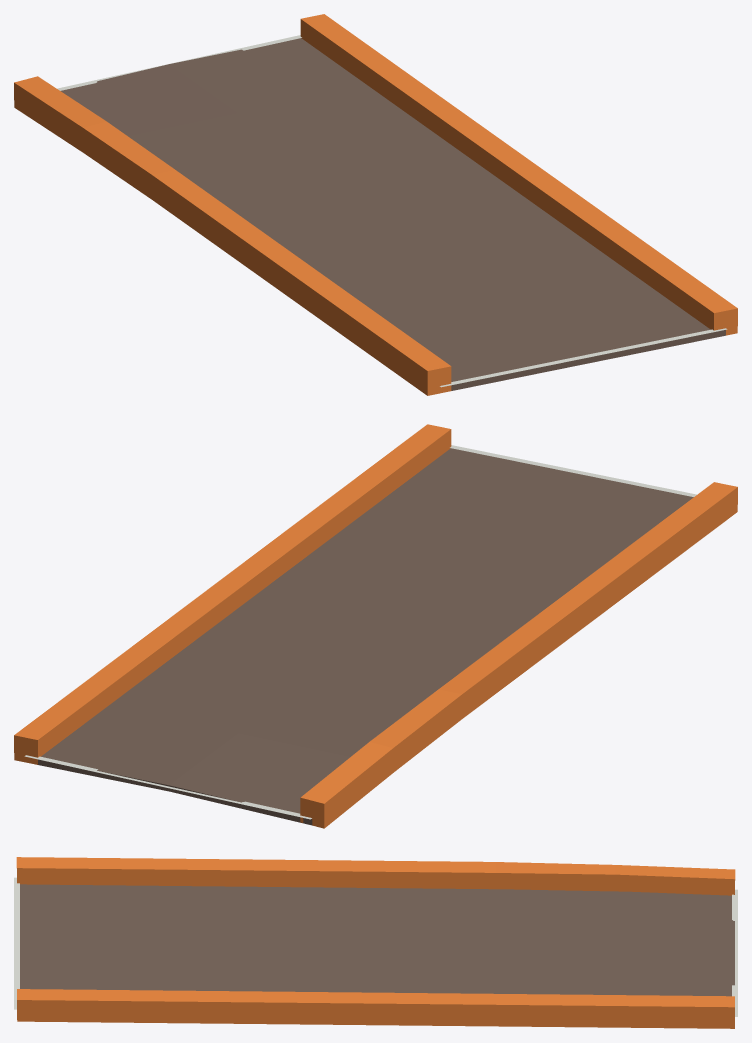
Rendered from SM_MP_Film_A_3_1.fbx.
3 views of the same model, one above another, from view 1: azimuth 30°, elevation 25°; view 2: azimuth 150°, elevation 25°; view 3: azimuth 270°, elevation 25° (orthographic). The views are drawn at different scales.
Visible parts, largest first — view 1: SM_MP_Film_A_3_1; view 2: SM_MP_Film_A_3_1; view 3: SM_MP_Film_A_3_1.
Part boxes in pixels (<box>): SM_MP_Film_A_3_1: <box>14,14,737,395</box>; SM_MP_Film_A_3_1: <box>14,424,737,828</box>; SM_MP_Film_A_3_1: <box>14,857,737,1028</box>.
Size of what is drawn, in the model's own units: 260 by 605 by 37.14.
